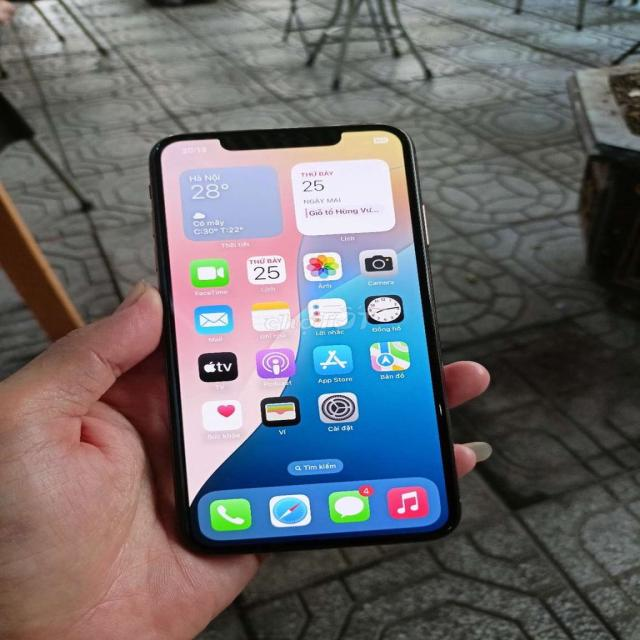gen_x_xs: (114, 121, 488, 559)
scratch: (436, 519, 474, 546), (426, 397, 456, 424), (152, 132, 173, 160)
